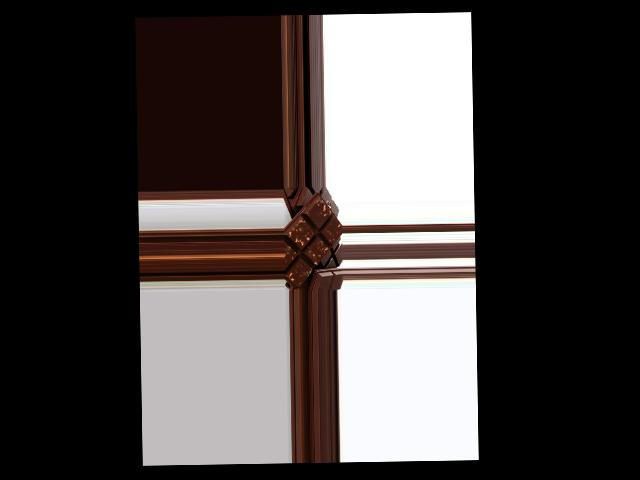chocolate: (282, 198, 342, 287)
